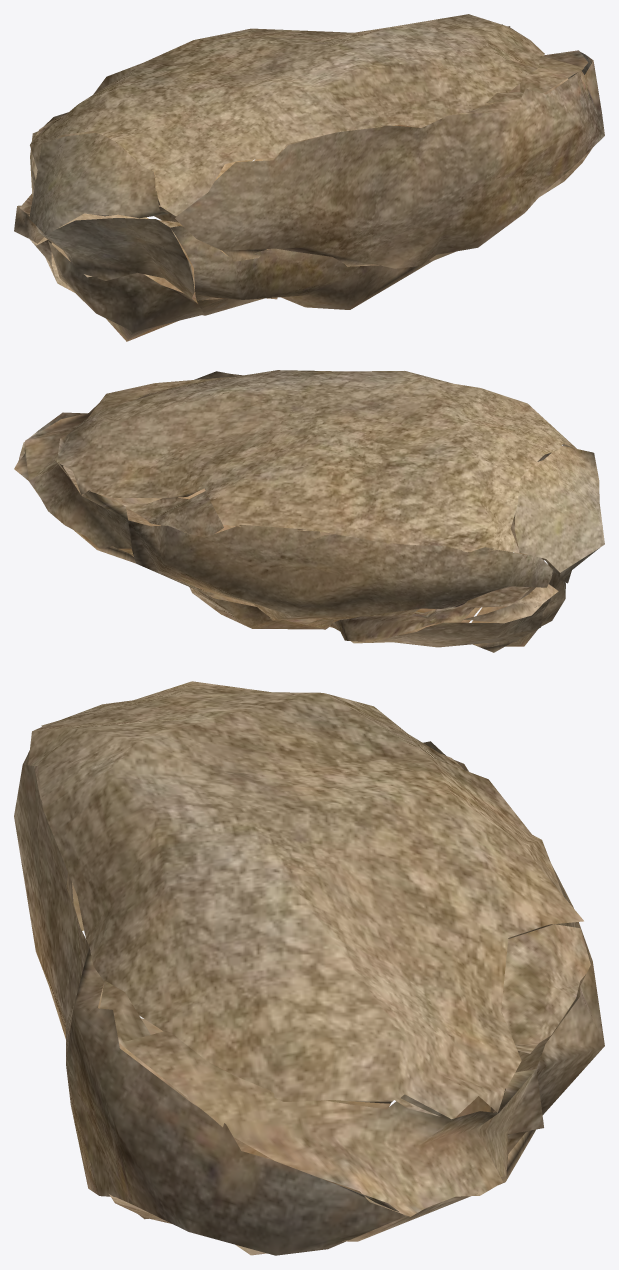
The model's file is boulder-b.glb.
3 views of the same model, one above another, from view 1: azimuth 30°, elevation 25°; view 2: azimuth 150°, elevation 25°; view 3: azimuth 270°, elevation 25° (orthographic). The views are drawn at different scales.
Visible parts, largest first — view 1: namaqualand_boulder_05; view 2: namaqualand_boulder_05; view 3: namaqualand_boulder_05.
Part boxes in pixels (x1=…): namaqualand_boulder_05: x1=14, y1=14, x2=604, y2=341; namaqualand_boulder_05: x1=14, y1=370, x2=604, y2=652; namaqualand_boulder_05: x1=14, y1=681, x2=604, y2=1255.
Size of the model in its own units: 1.35 by 0.5339 by 0.7462.
Materials: 1 (1 with a texture image).
